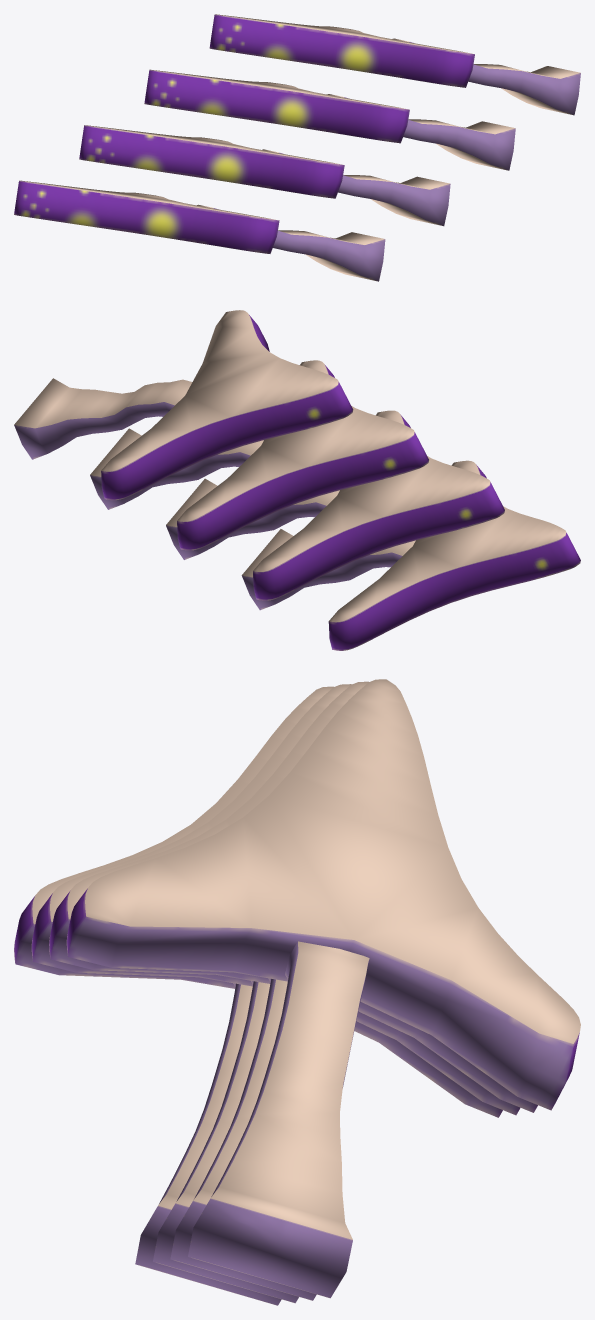
The model's file is ChapeuDeBruxa_Cortado.fbx.
3 renders of one model, top to bottom at view 1: azimuth 30°, elevation 25°; view 2: azimuth 150°, elevation 25°; view 3: azimuth 270°, elevation 25°, orthographic. The views are drawn at different scales.
Parts seen in each view (by area): view 1: Chapeu_cortado; view 2: Chapeu_cortado; view 3: Chapeu_cortado.
Part boxes in pixels (x1,y1,x2,y2): Chapeu_cortado: [14, 14, 580, 281]; Chapeu_cortado: [14, 310, 580, 650]; Chapeu_cortado: [14, 679, 580, 1305].
Size of the model in its own units: 234 by 110 by 107.
